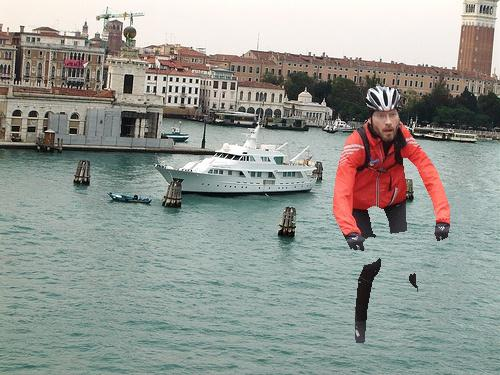tampered: (334, 86, 450, 343)
